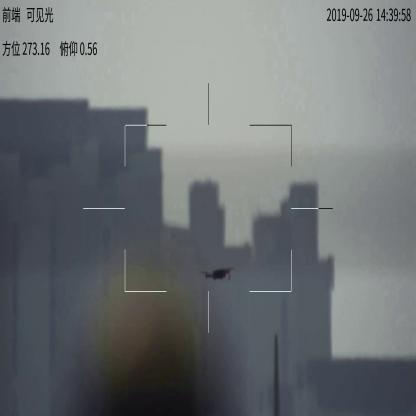uav: (198, 264, 234, 283)
